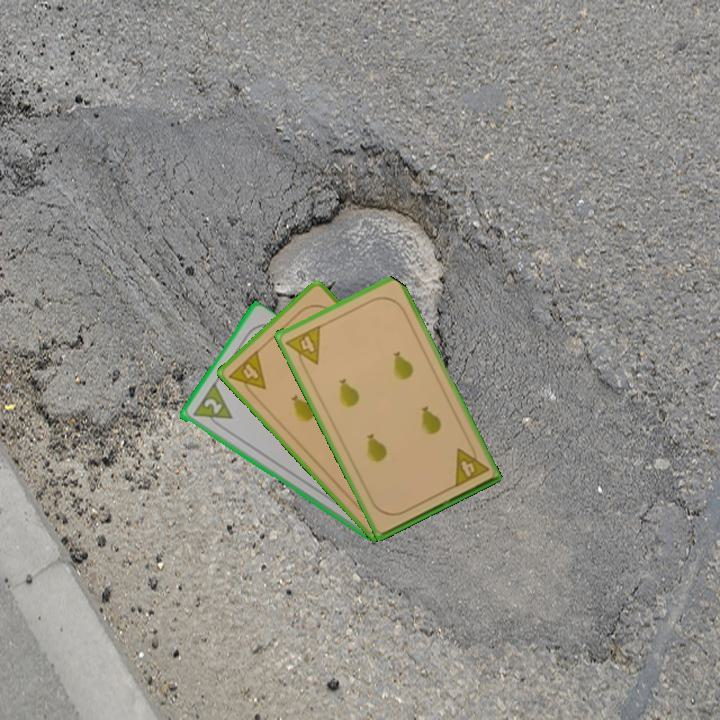2p: (189, 381, 235, 433)
4p: (225, 347, 269, 401), (282, 321, 324, 372), (450, 440, 492, 490)
